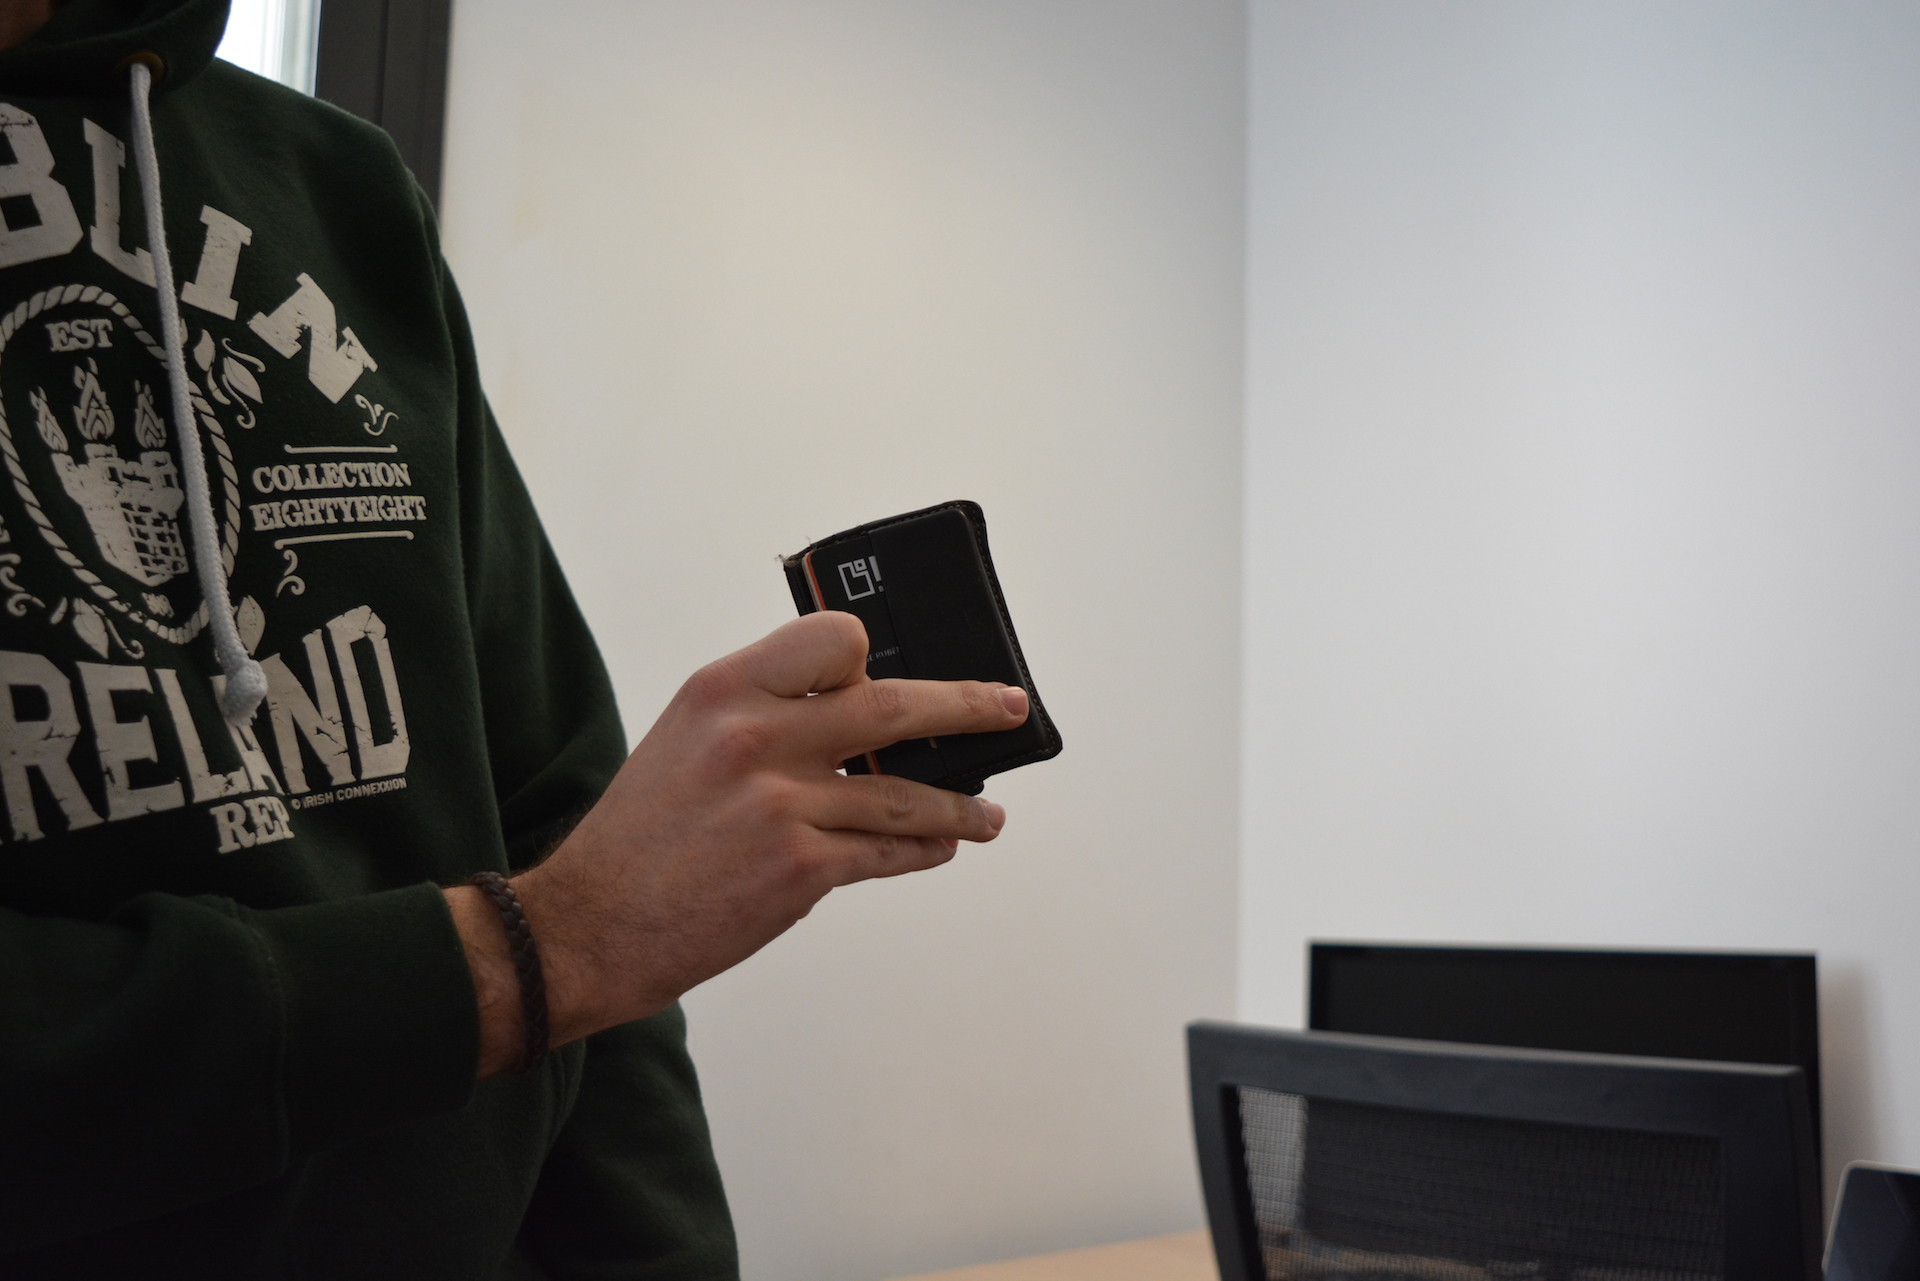monedero: (781, 498, 1067, 801)
